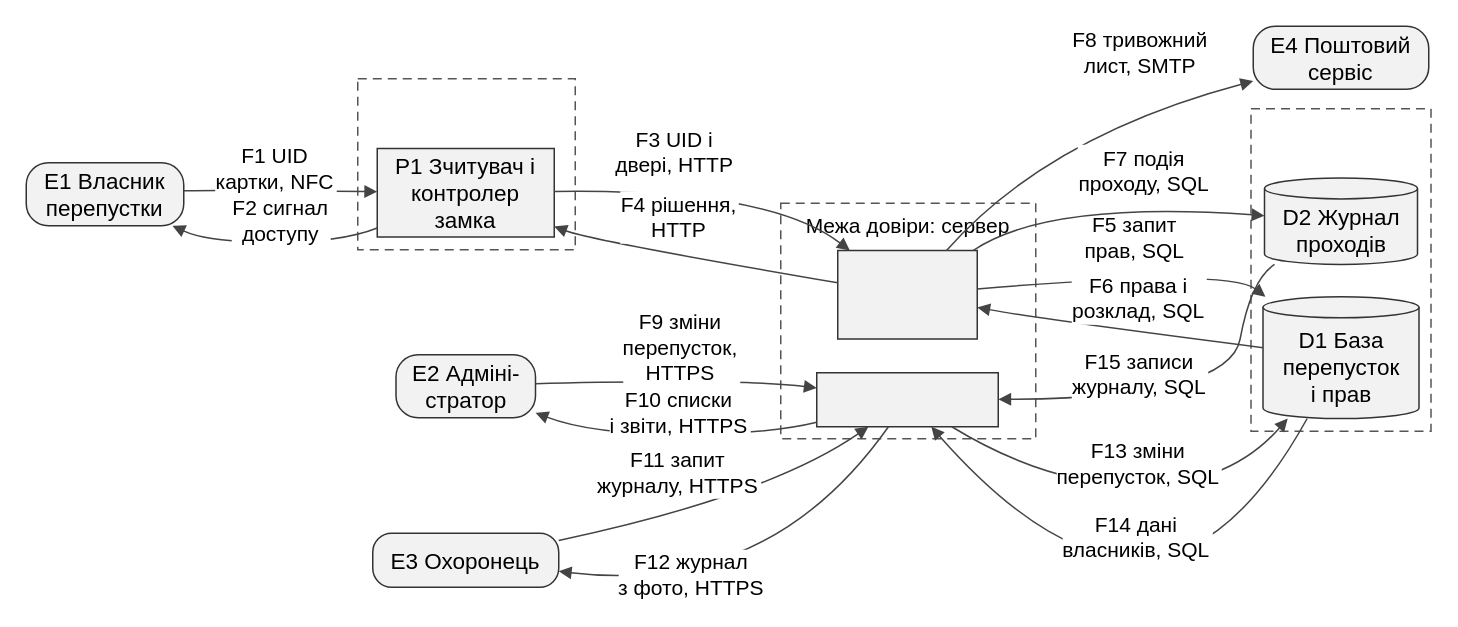
The diagram is 1458 pixels wide and 627 high, and some of its shapes have lost their labels. Each missing label, with the box of its shape:
P2 Сервер контролю доступу: (836, 249, 977, 339)
P3 Вебпанель: (815, 371, 998, 427)
Межа довіри: двері лабораторії: (356, 77, 575, 250)
Межа довіри: сховище: (1250, 107, 1431, 431)
